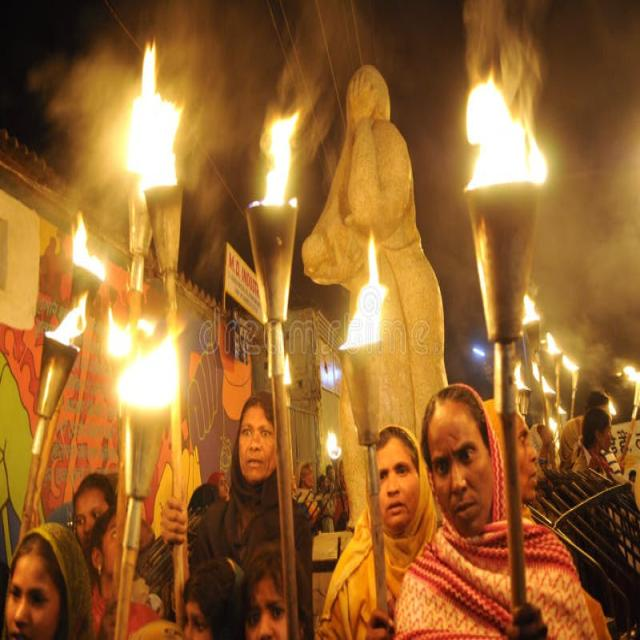fire: (464, 59, 550, 191), (119, 41, 184, 192), (339, 224, 388, 351), (116, 327, 180, 412), (247, 111, 300, 206), (45, 291, 88, 351), (73, 213, 107, 283), (106, 304, 135, 361)
